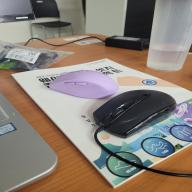mouse: (93, 88, 179, 137), (47, 70, 120, 100)
